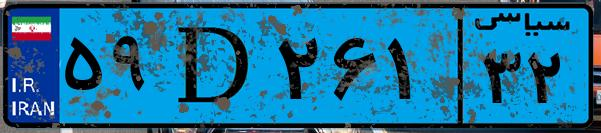1: (385, 28, 445, 110)
2: (270, 28, 330, 110), (525, 38, 570, 115)
3: (475, 38, 525, 113)
5: (57, 26, 110, 100)
6: (330, 28, 385, 110)
9: (110, 28, 158, 98)
D: (158, 12, 270, 120)
